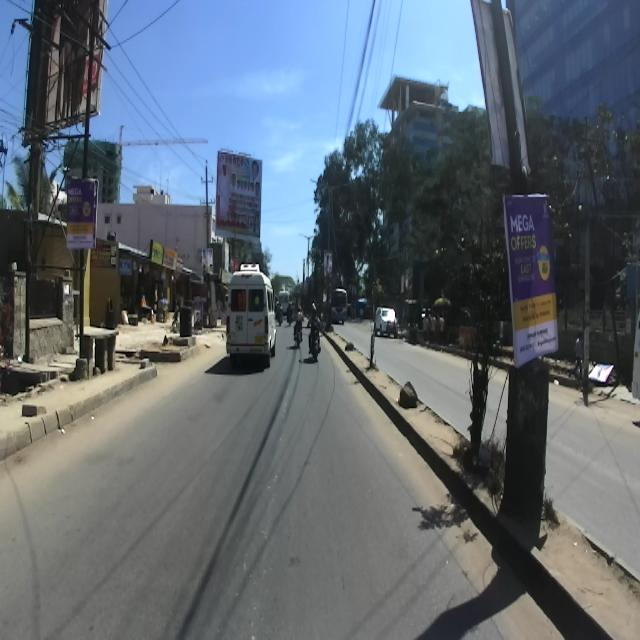bus ahead at: (226, 271, 276, 366)
